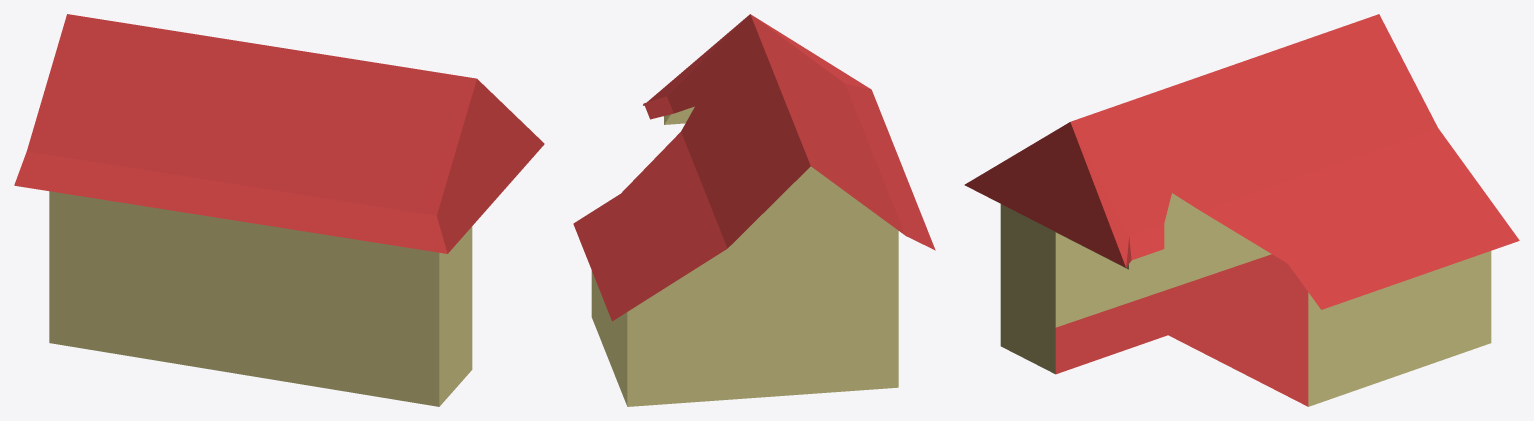
3 views of the same model, side by side, from view 1: azimuth 30°, elevation 25°; view 2: azimuth 150°, elevation 25°; view 3: azimuth 270°, elevation 25° (orthographic). The views are drawn at different scales.
Size of the model in its own units: 22.85 by 27.25 by 13.97.
